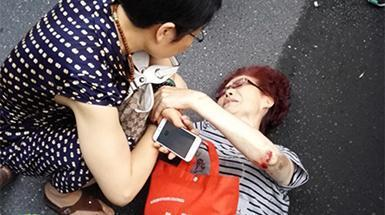Fall-Detected: (26, 60, 313, 215)
